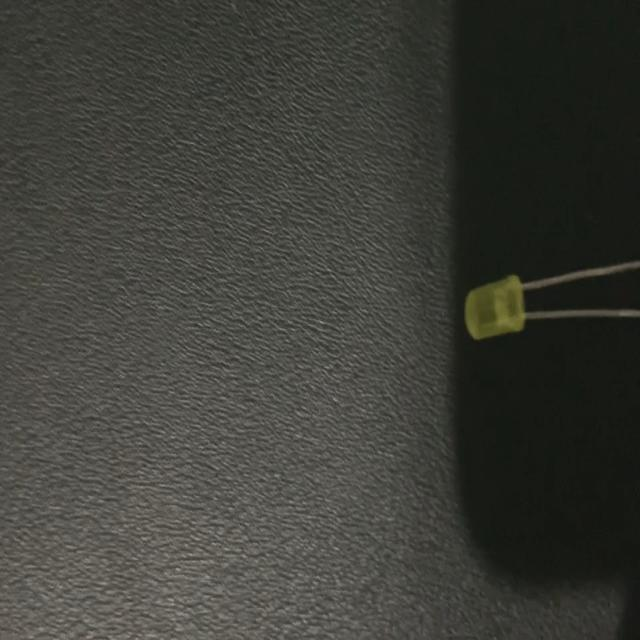LED: (463, 259, 640, 338)
